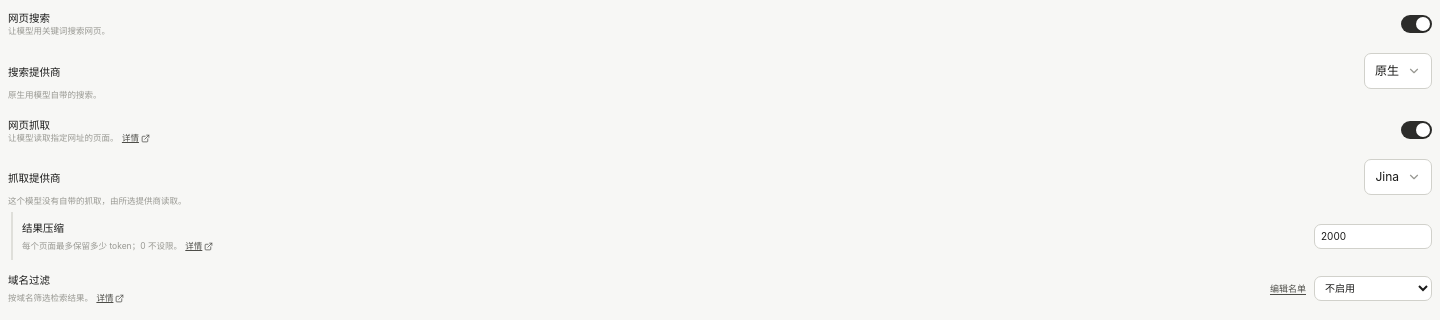
Test case: WebSearchBehaviorSettings › has no Native row in the fetch menu on a model without a native fetch
Click the button with aria-label "抓取提供商：" at (1398, 177), box [1364,159,1432,195]
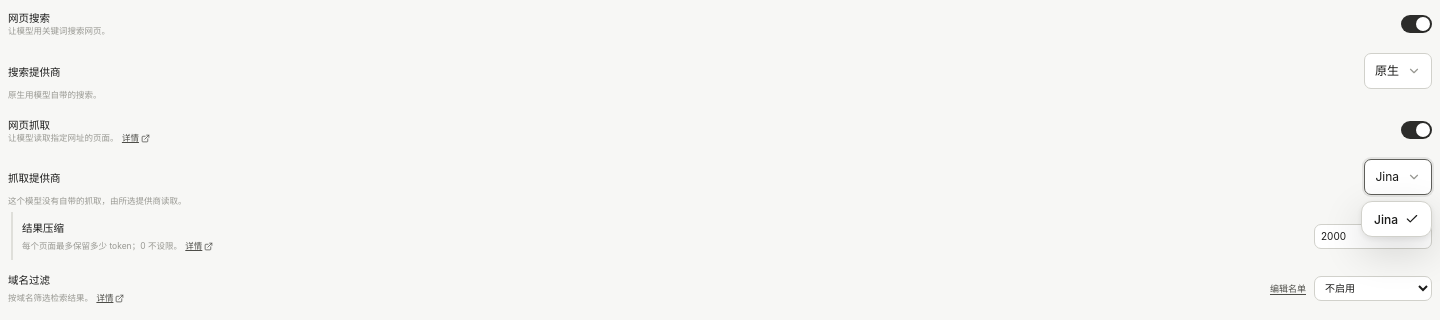
expect the menu item "Jina" is checked: met, box [1367,207,1426,231]
Press Escape
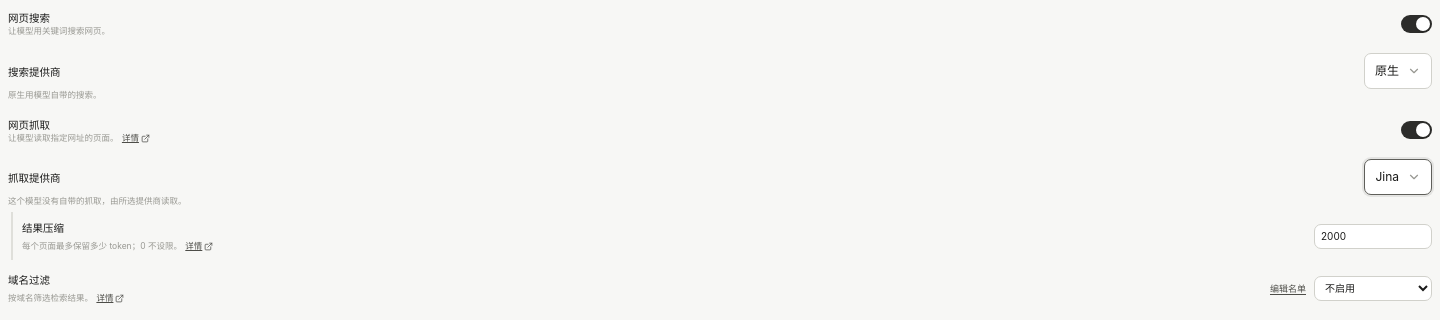
Click the button with aria-label "搜索提供商：" at (1398, 71), box [1364,53,1432,89]
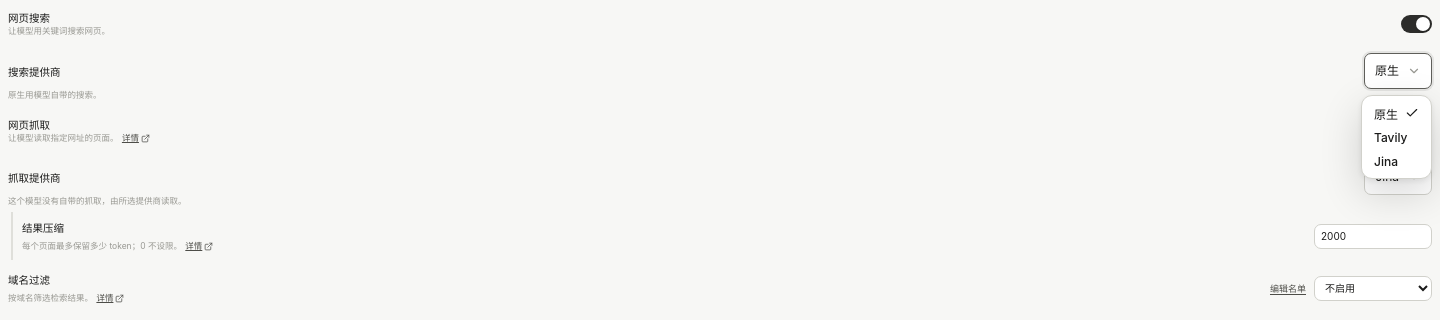
expect the menu item "原生" is shown: met, box [1367,101,1426,125]
